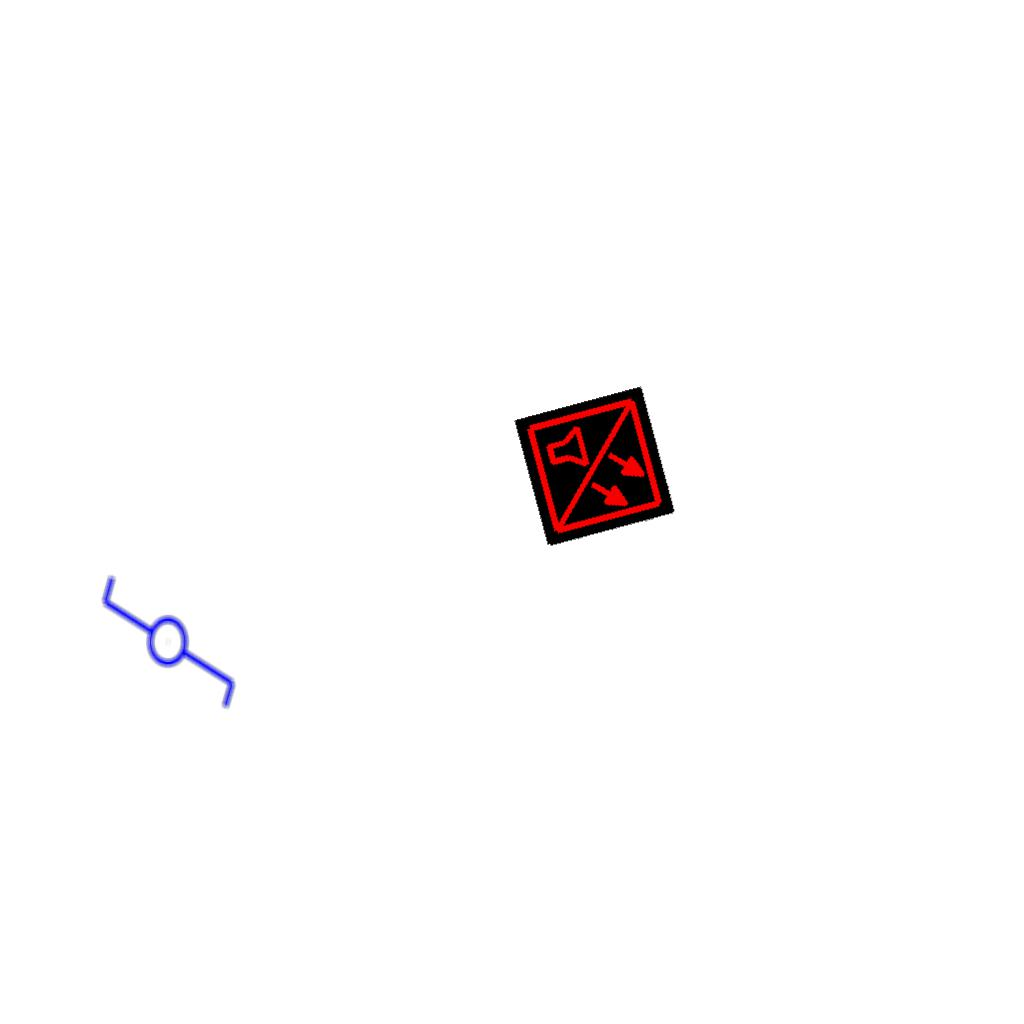OKW_Multisensormelder_(Kombination_optischer_Rauch-Kahlenmonoxid_Waerme-Melder): (514, 386, 676, 548)
Wechselschalter: (98, 555, 242, 712)
